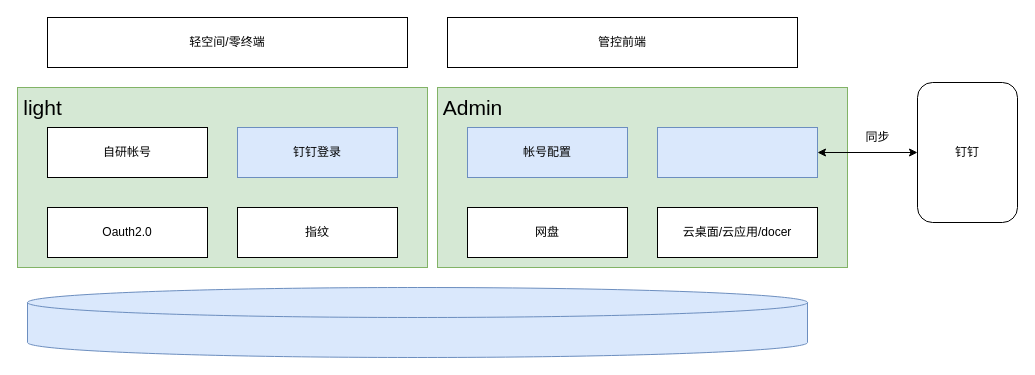
This 1035x375 diagram has some shape labels left out. The shapes that lost their labels are listed below. From the top down, each one's centre as x and y in pixels, then its label:
At pixel 737 152: "用户组织/授权".
At pixel 417 322: "DB".
